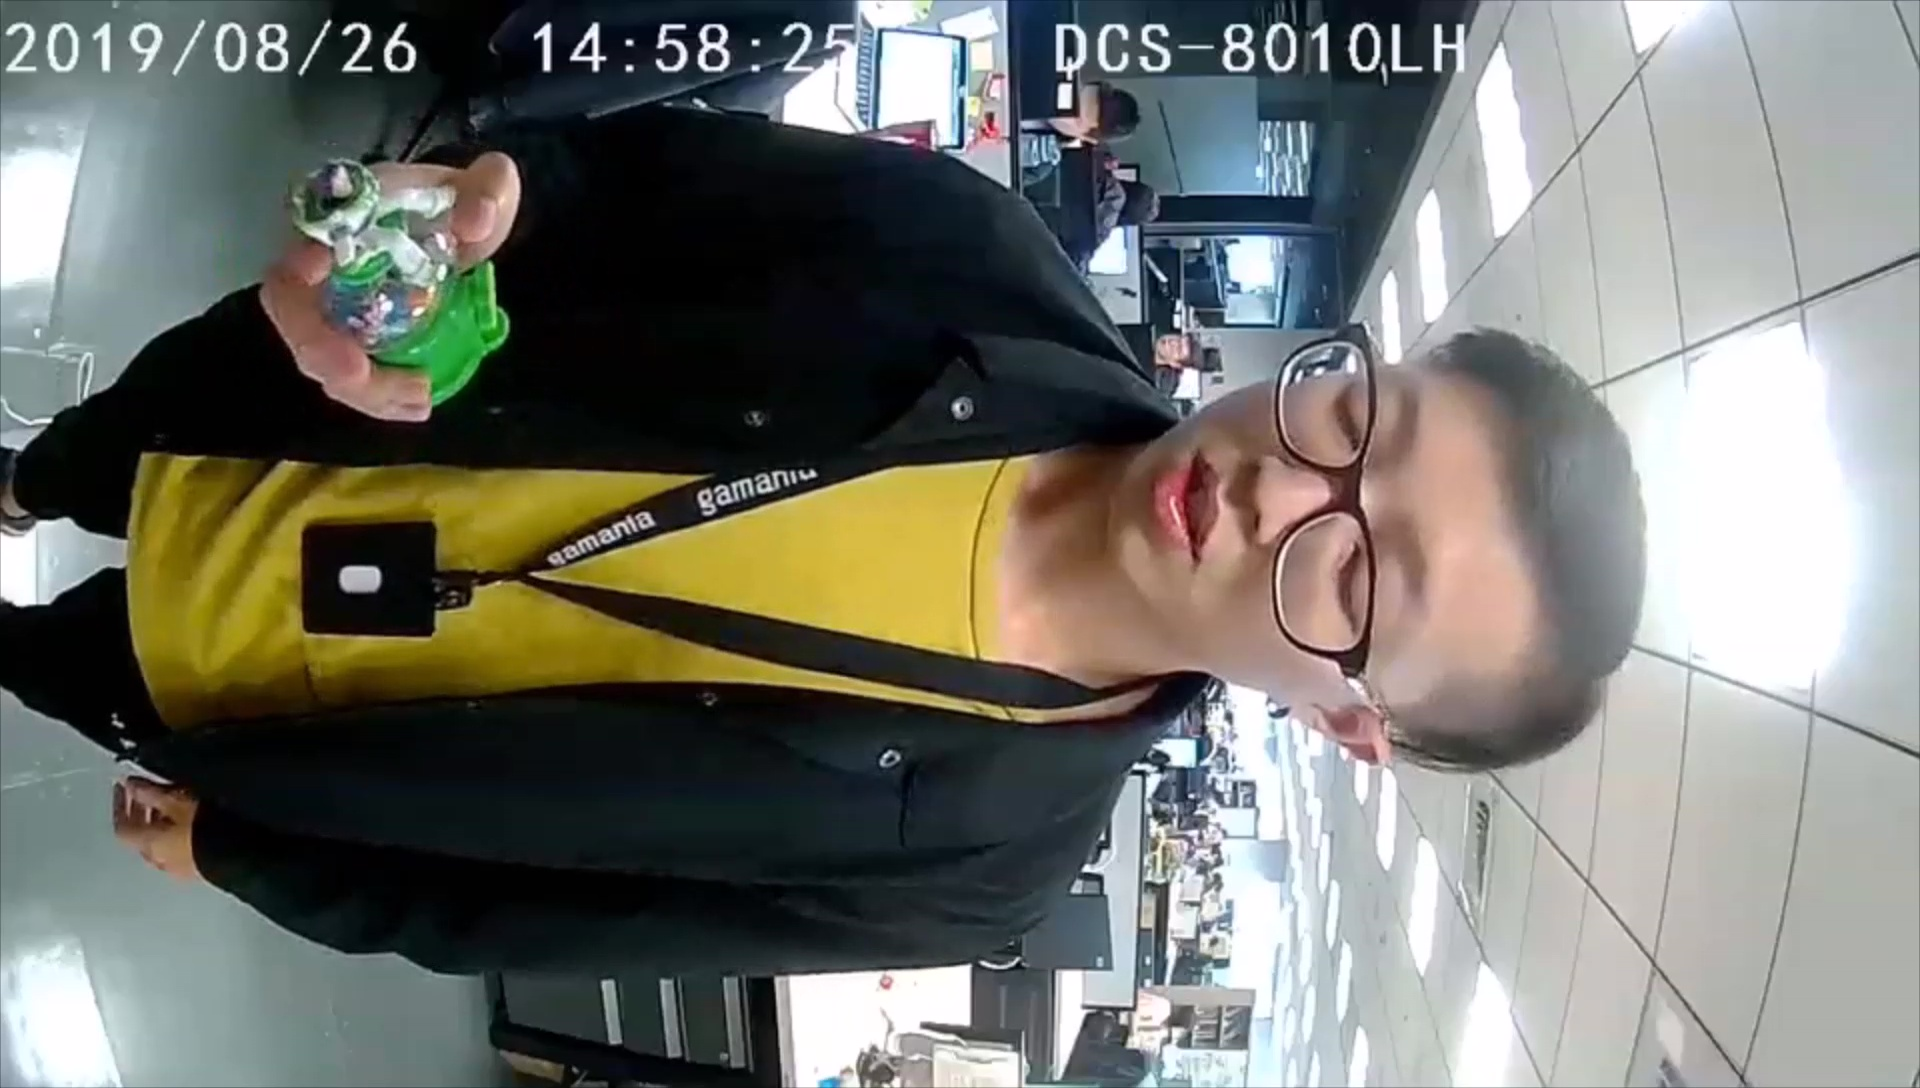buzz: (293, 154, 510, 413)
